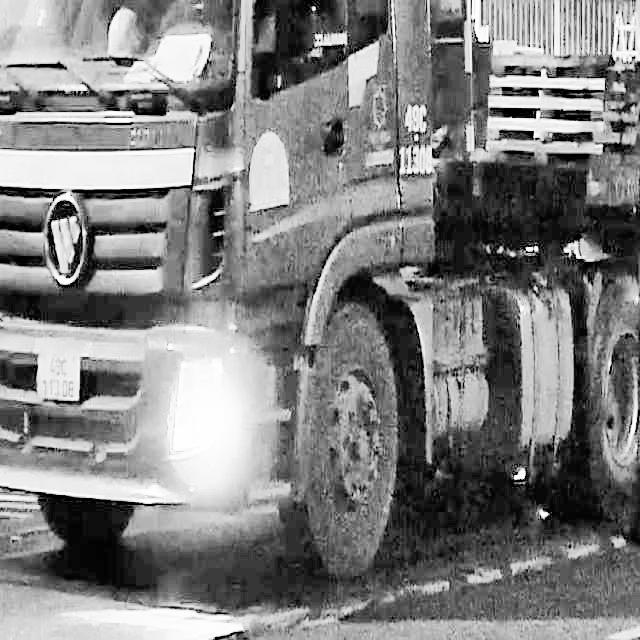Truck: (0, 0, 638, 583)
